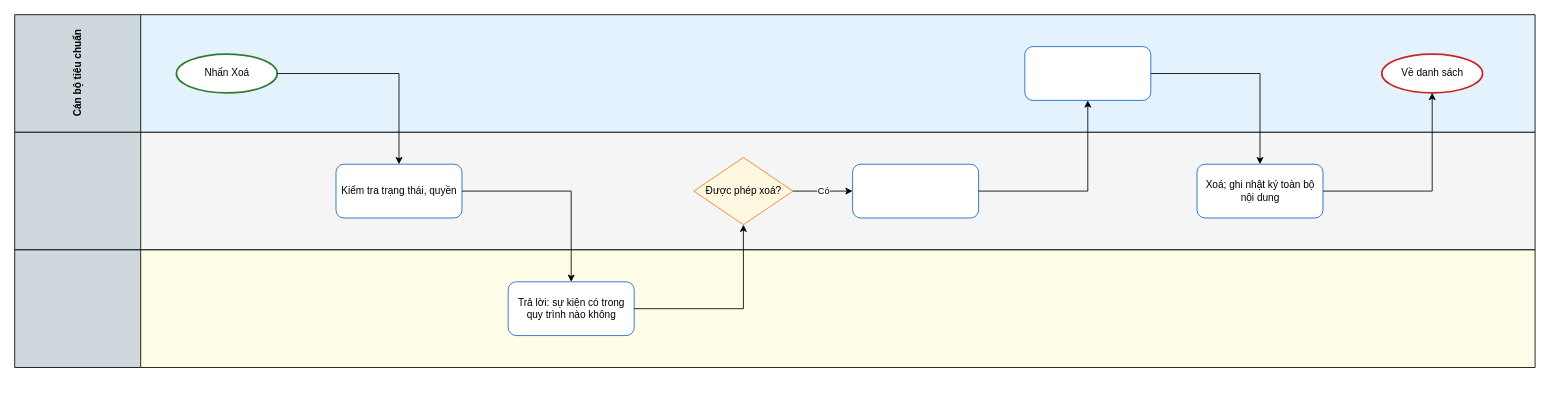
Some shapes in this 1550 by 408 pixel diagram are drawn without their labels. Here are the shapes that lost their labels. From the top down, the box of each, then its label:
(1024, 46, 1151, 100): Xác nhận xoá
(14, 131, 1535, 250): Hệ thống
(852, 163, 979, 218): Hiển thị hộp xác nhận phù hợp
(14, 249, 1535, 368): Phân hệ Quy trình tiêu chuẩn TXNG
